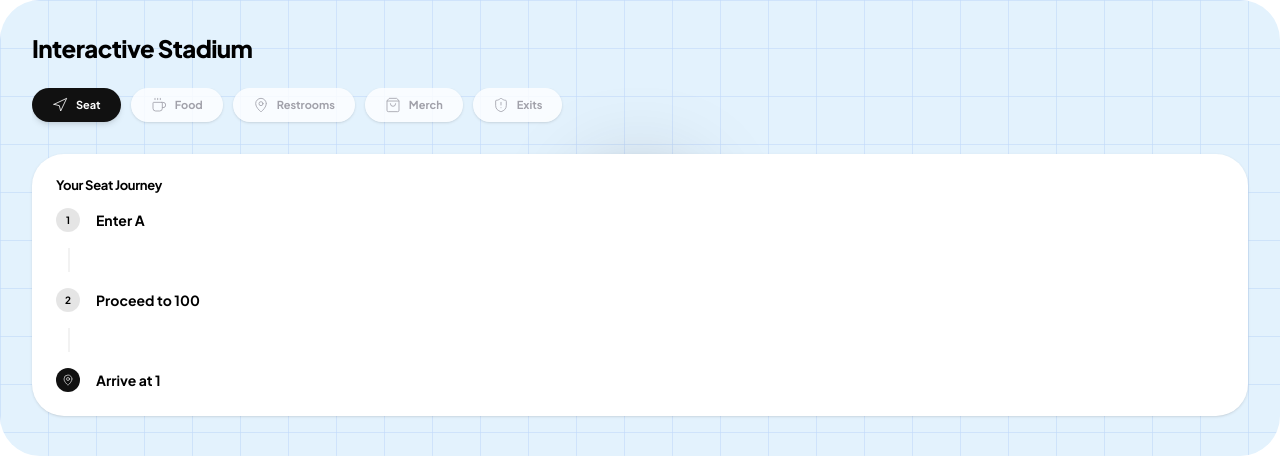
Scenario: StadiumMapWidget › switches to Food filter and shows food vendors
The width and height of the screenshot is (1280, 473).
Click the button with aria-label "filter by food" at [177, 105], box left=131, top=88, right=223, bottom=122
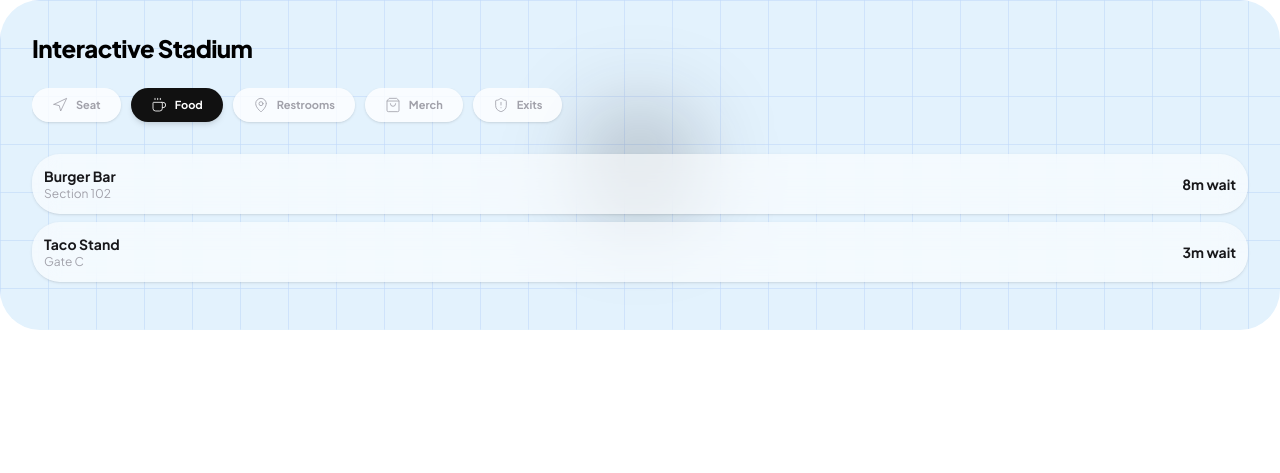
Result: the text "Burger Bar" is shown at left=44, top=166, right=116, bottom=186
Result: the text "Taco Stand" is shown at left=44, top=234, right=120, bottom=254
